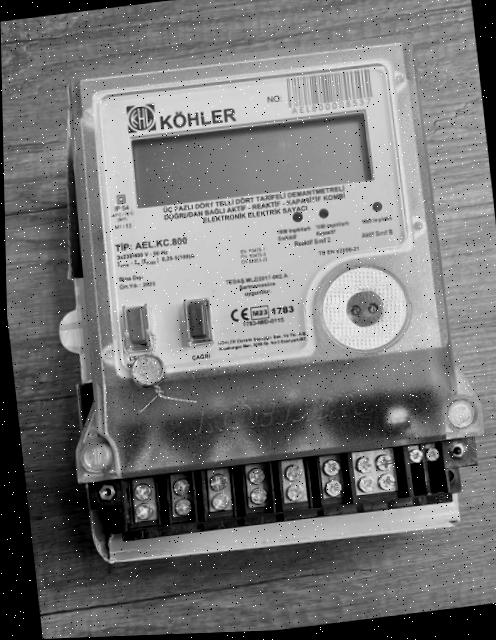electric-meter-detection: (59, 36, 482, 551)
